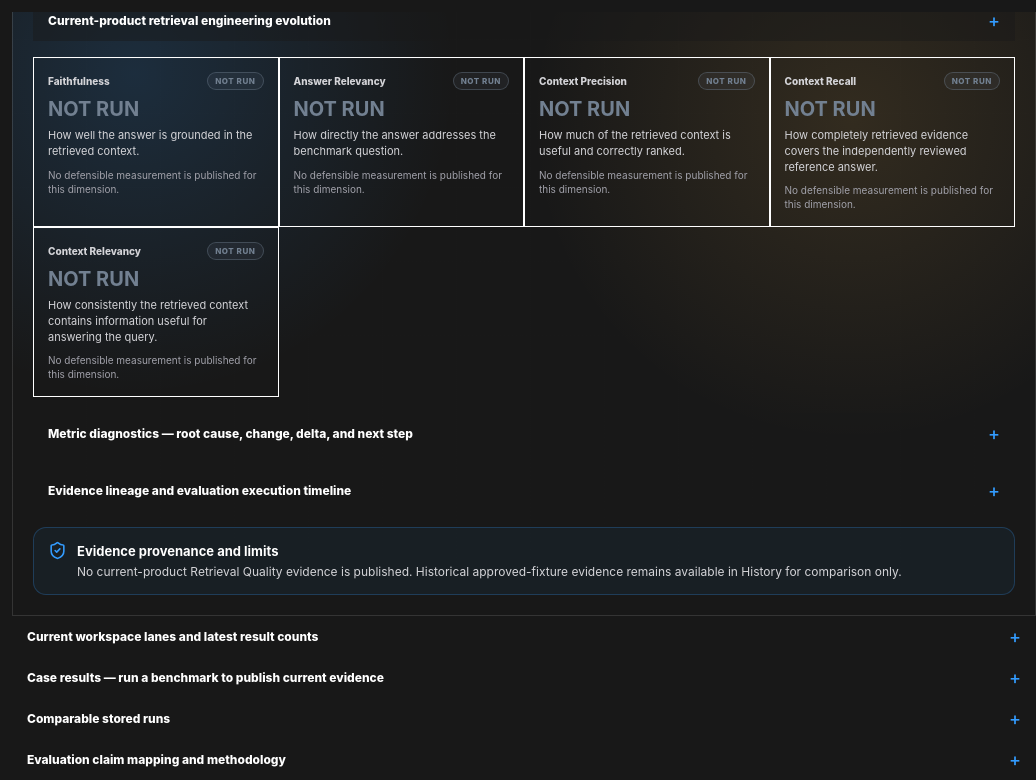
Test: Evaluation workspace › keeps the primary score current-product-only and the historical 61.44% fixture inside History
Check: the text "Comparable stored runs" is shown, box left=12, top=698, right=1035, bottom=739
Check: the text "61.44%" is not shown
Click the heading "Comparable stored runs" at (99, 718), box left=27, top=711, right=170, bottom=726
(page scrolled)
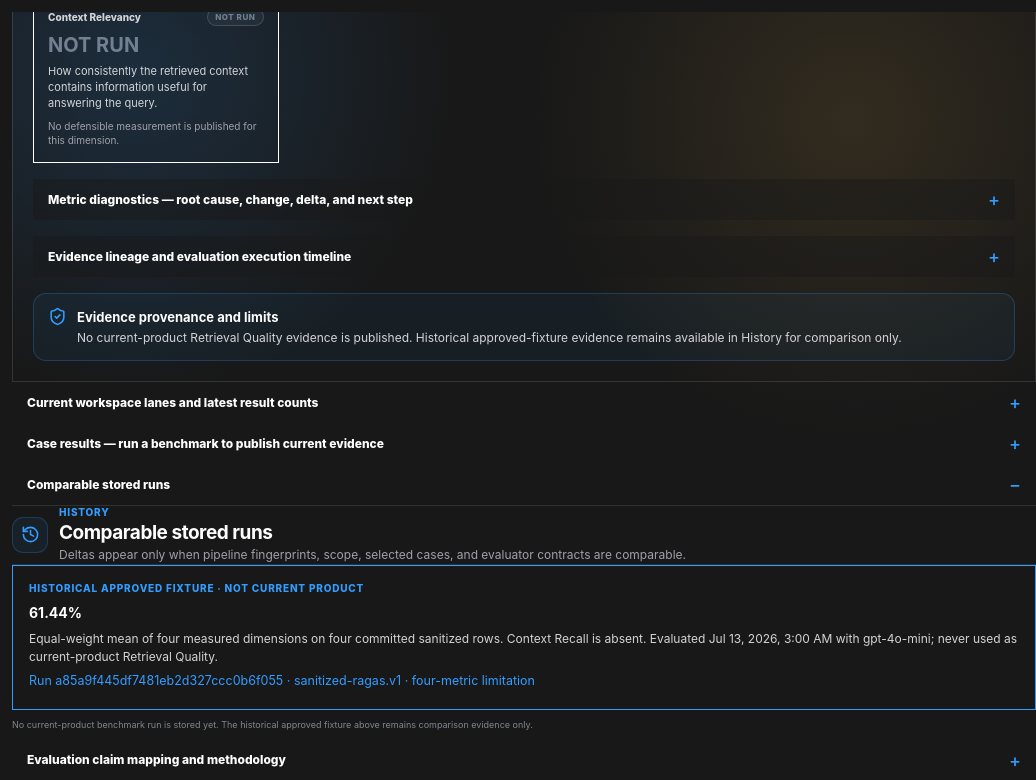
Check: the text "61.44%" is shown, box left=29, top=604, right=82, bottom=621
Check: the text "Comparable stored runs" shows "Historical approved fixture · not current product", box left=29, top=582, right=364, bottom=594
Check: the text "Comparable stored runs" shows "four-metric limitation", box left=401, top=673, right=535, bottom=688
